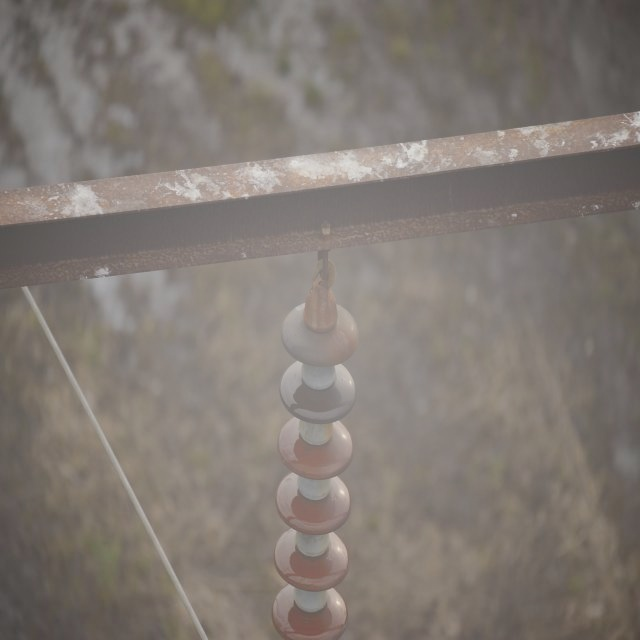insulator: (271, 302, 359, 640)
